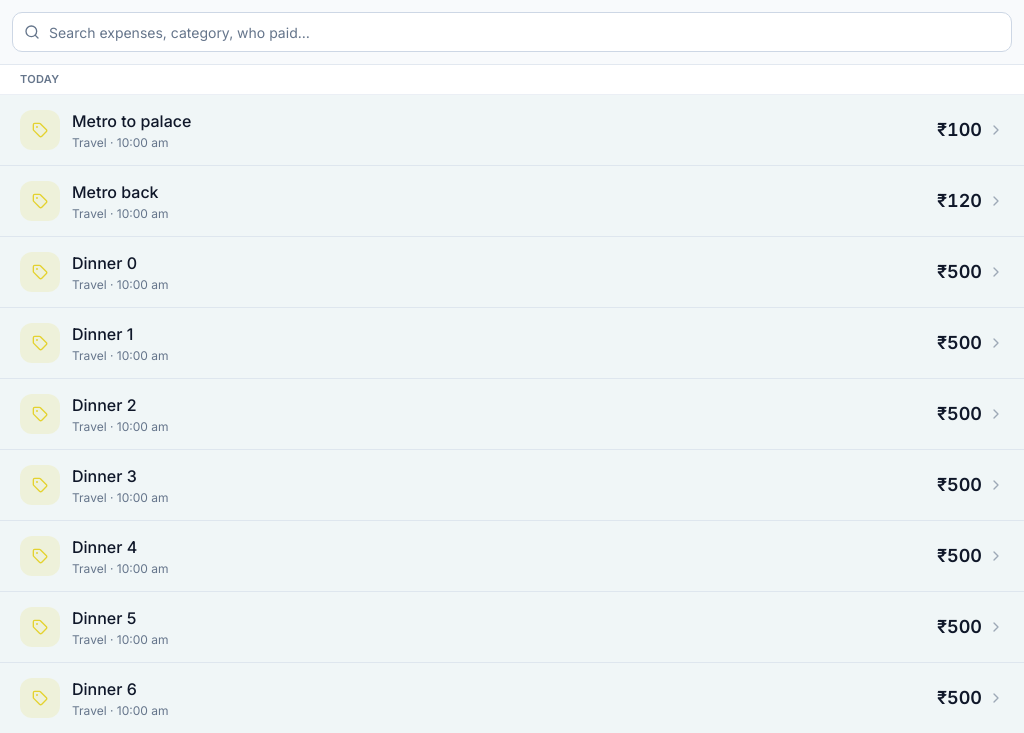
it: TransactionList search summary › breaks the total down by who paid, biggest payer first
The width and height of the screenshot is (1024, 733).
Type "metro" into the field with placeholder "Search expenses, category, who paid…". click: (512, 32)
box: x1=12 y1=12 x2=1012 y2=52
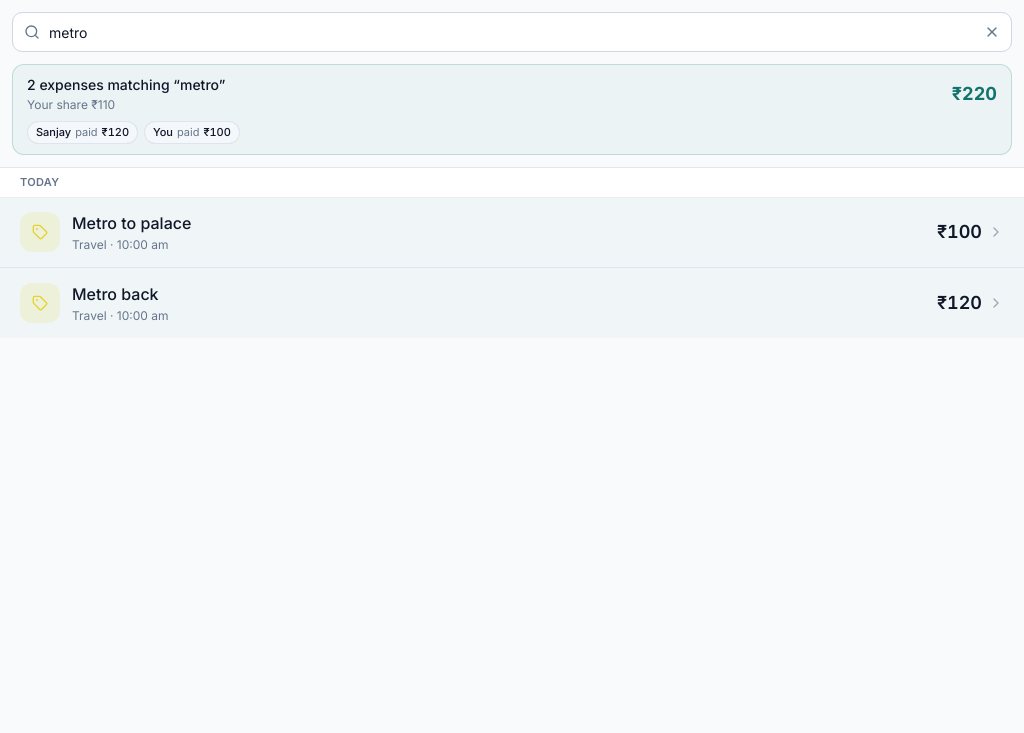
Expected: the elements "paid" read "Sanjaypaid₹120", "Youpaid₹100", in this order, x1=27 y1=121 x2=138 y2=144; x1=144 y1=121 x2=240 y2=144
